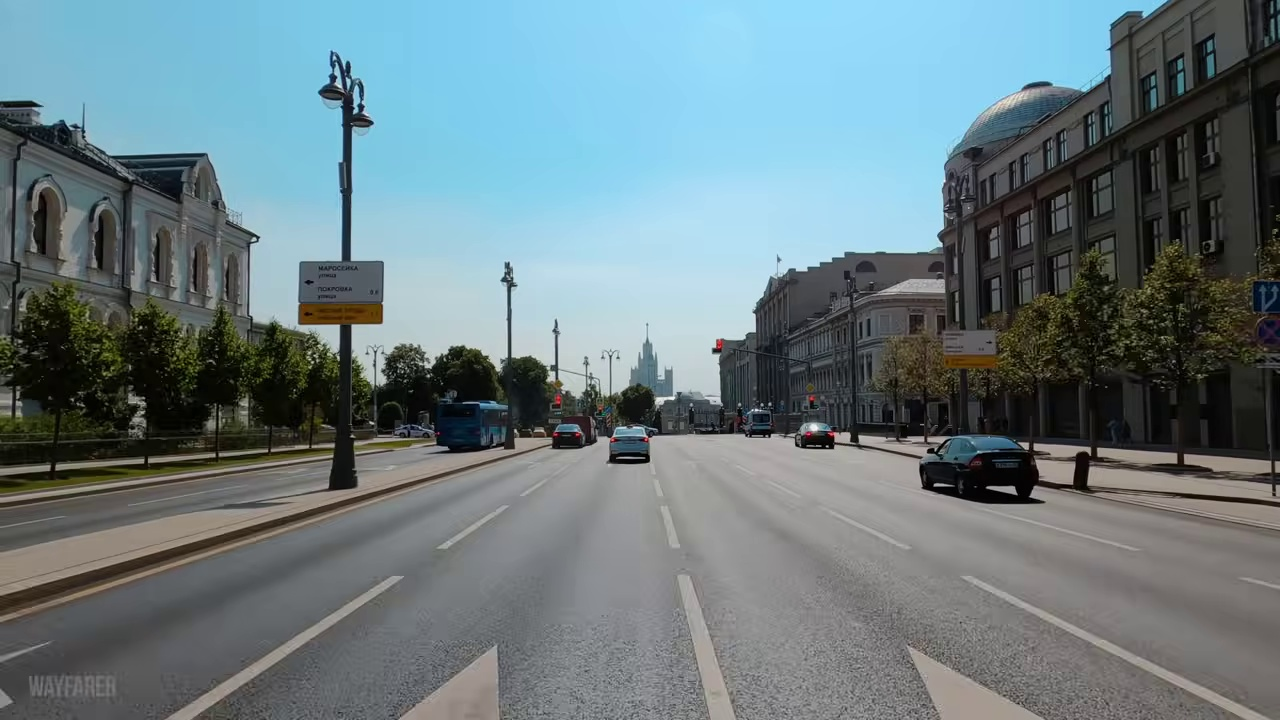apagada: (317, 74, 368, 124), (495, 263, 518, 292)
